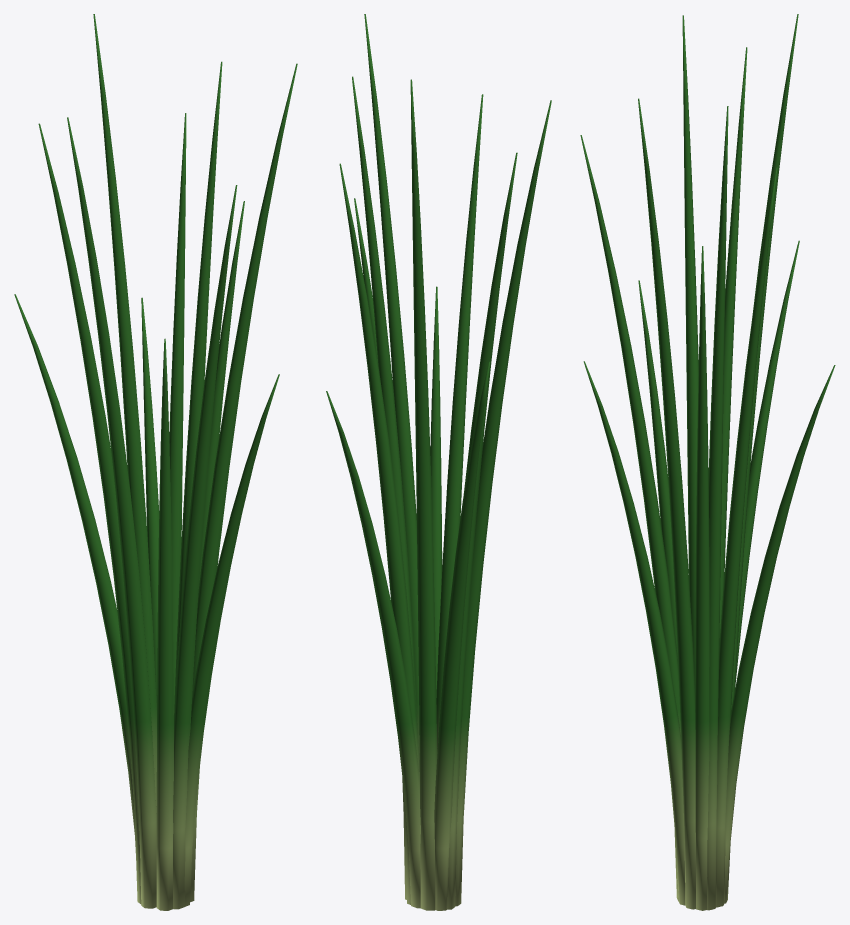
Rendered from horta_cebolinha_realista.glb.
3 views of the same model, side by side, from view 1: azimuth 30°, elevation 25°; view 2: azimuth 150°, elevation 25°; view 3: azimuth 270°, elevation 25° (orthographic).
Parts seen in each view (by area): view 1: Cebolinha; view 2: Cebolinha; view 3: Cebolinha.
Boxes of the visible parts, box(x1,y1,x2,y2) form: Cebolinha: box(14, 14, 297, 910); Cebolinha: box(326, 14, 551, 910); Cebolinha: box(580, 14, 835, 910).
Bounding box in the file's own units: 0.0768 × 0.3017 × 0.0801.
Materials: 1 (1 with a texture image).
